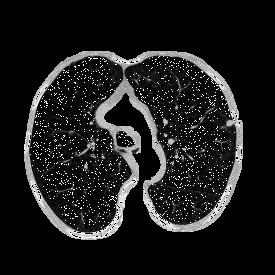PN: (226, 119, 234, 127)
